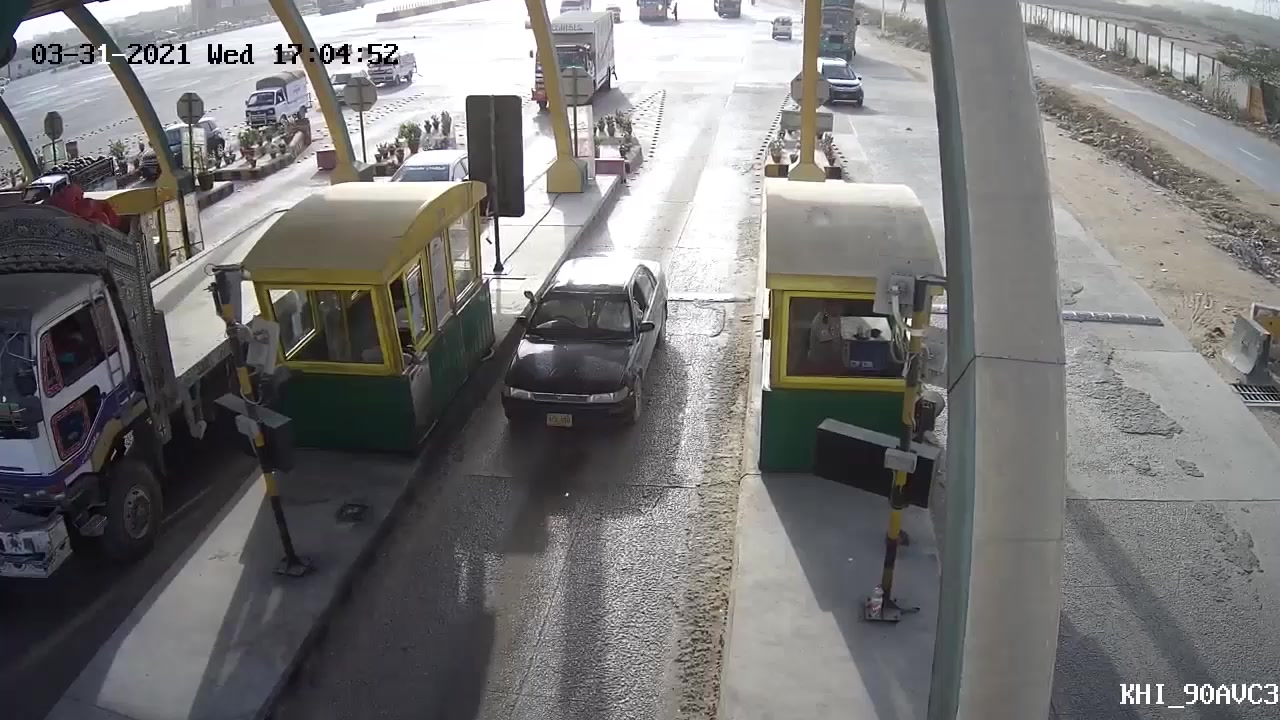F1: (482, 253, 674, 438)
